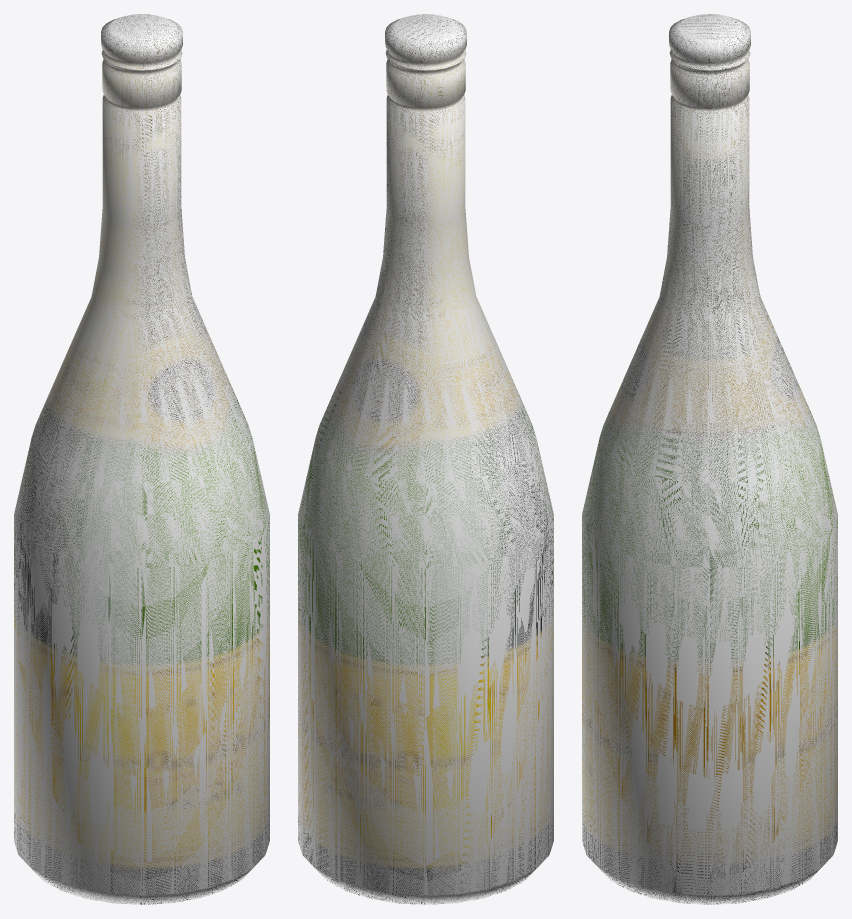
3 views of the same model, side by side, from view 1: azimuth 30°, elevation 25°; view 2: azimuth 150°, elevation 25°; view 3: azimuth 270°, elevation 25° (orthographic).
Visible parts, largest first — view 1: Veuve_Clicquot; view 2: Veuve_Clicquot; view 3: Veuve_Clicquot.
Part boxes in pixels (x1,y1,x2,y2): Veuve_Clicquot: (14,14,269,904); Veuve_Clicquot: (298,14,553,904); Veuve_Clicquot: (582,14,837,904).
Bounding box in the file's own units: 3.46 × 3.46 × 12.4.
2 materials, 1 textured.
